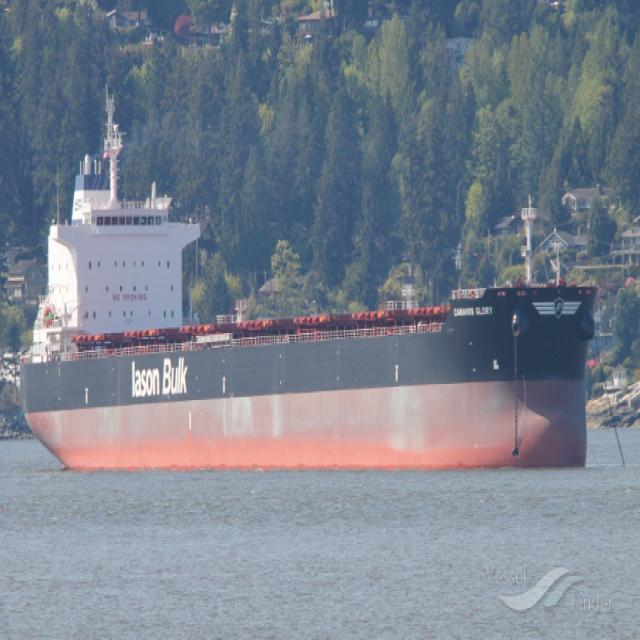Bulk Carrier: (12, 108, 604, 476)
